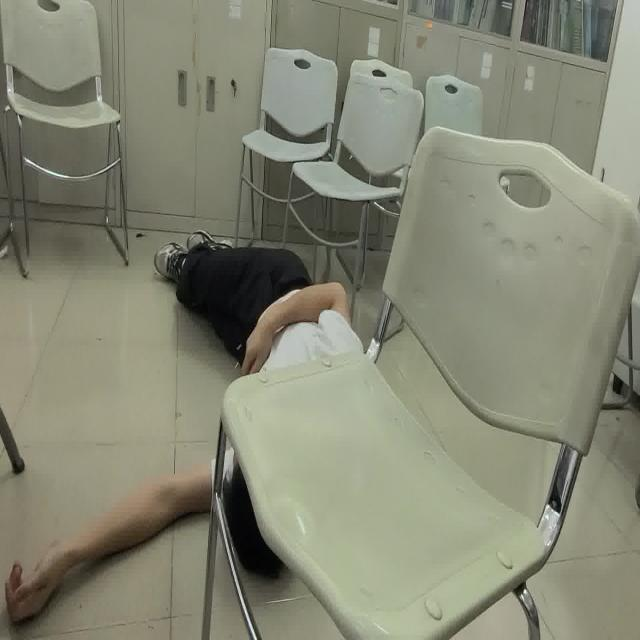Fall: (11, 236, 362, 625)
